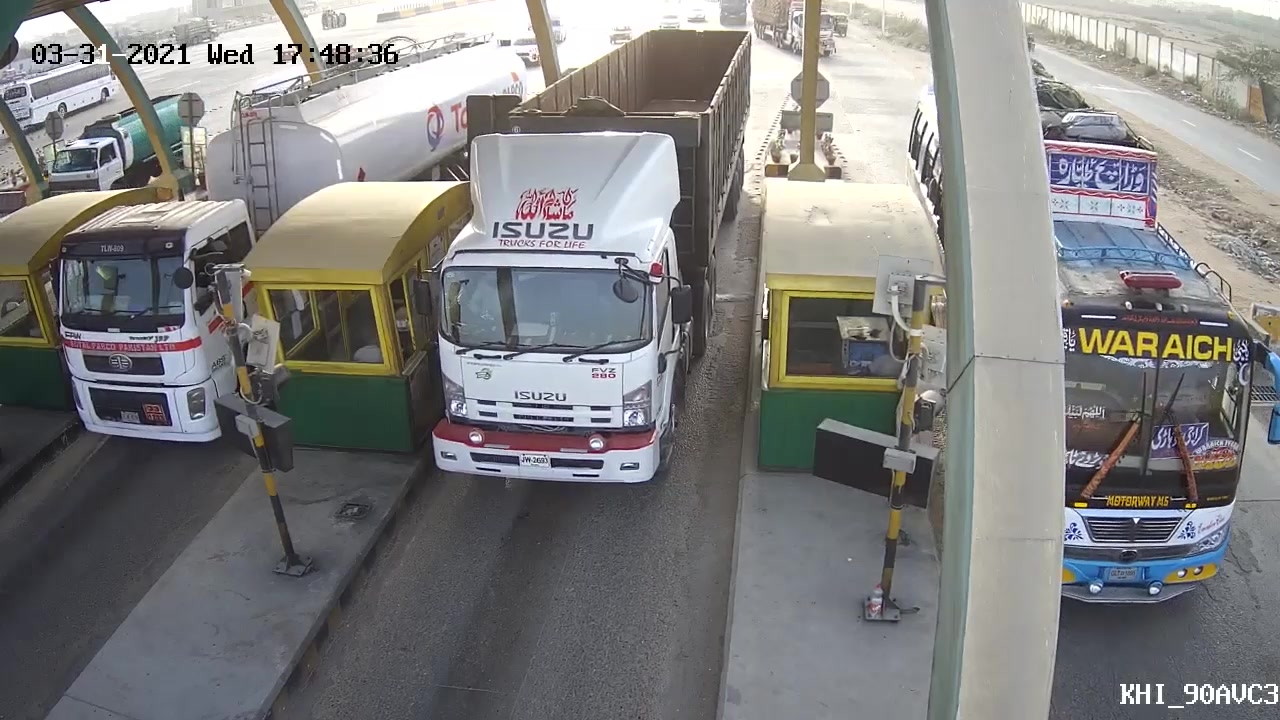F5: (405, 118, 722, 544)
